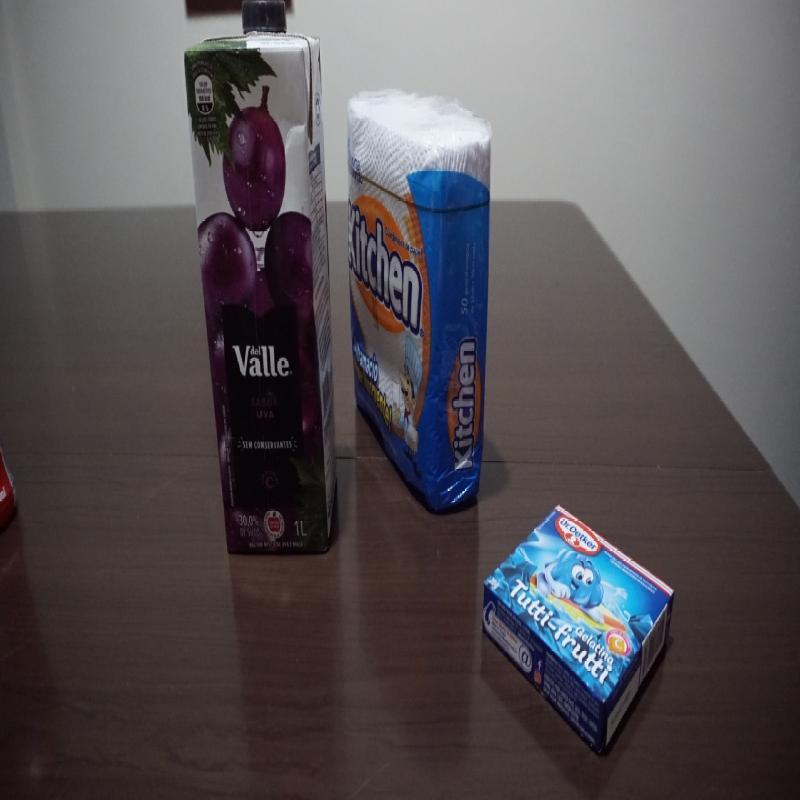Gelatine: (486, 502, 683, 748)
Napkin: (345, 91, 490, 510)
